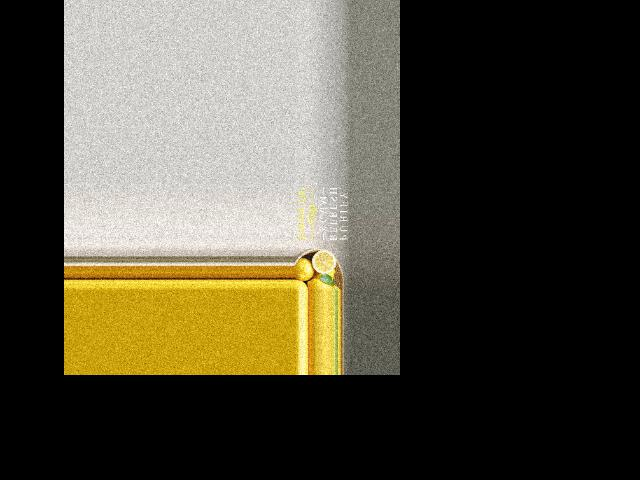lemon: (294, 259, 314, 280)
